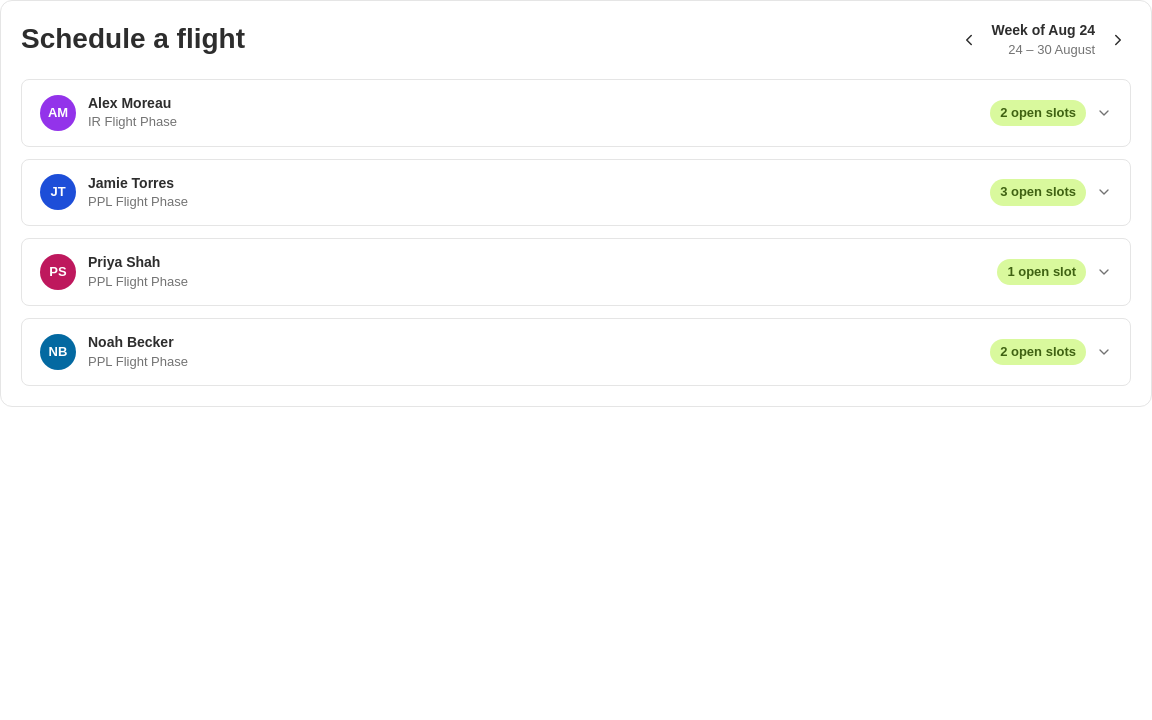
Test: InstructorSchedulePanel › closes the previously open student panel when another one is opened
Step 1. Click the button "AM Alex Moreau IR Flight Phase 2 open slots" → coordinates (58, 113), box [22, 80, 1130, 146]
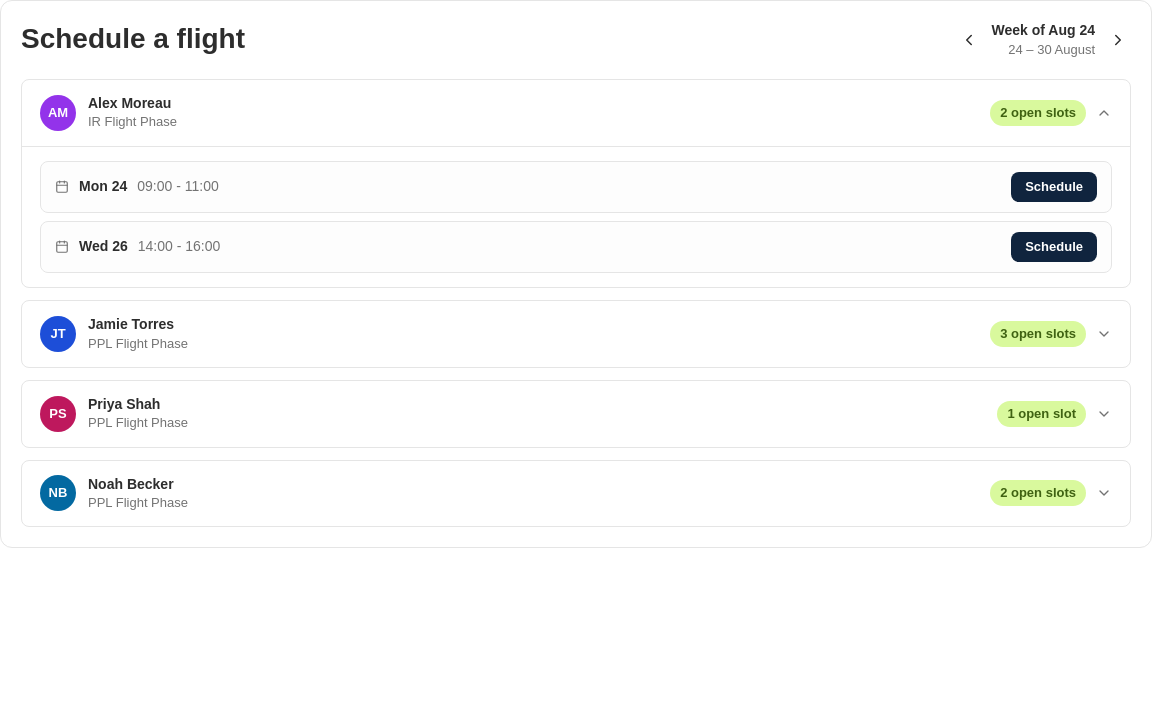
Expected: the button "AM Alex Moreau IR Flight Phase 2 open slots" is expanded, [22, 80, 1130, 146]
Step 2. Click the button "JT Jamie Torres PPL Flight Phase 3 open slots" → coordinates (58, 334), box [22, 301, 1130, 367]
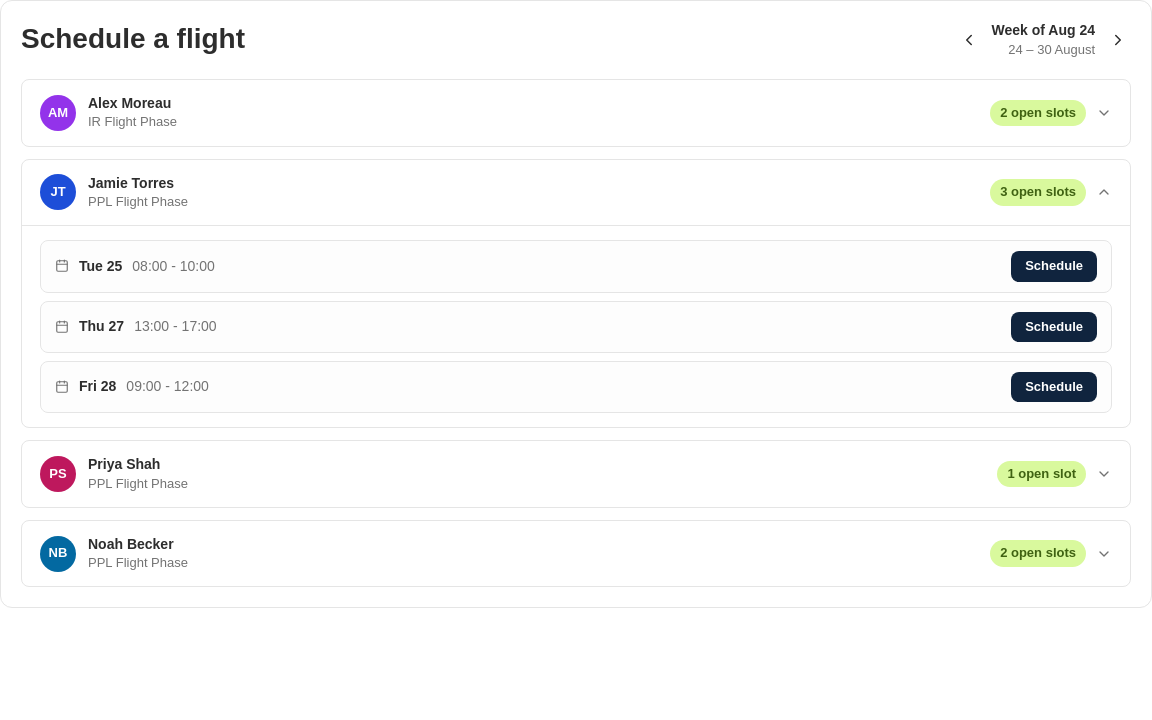
Expected: the button "JT Jamie Torres PPL Flight Phase 3 open slots" is expanded, [22, 160, 1130, 225]
Expected: the button "AM Alex Moreau IR Flight Phase 2 open slots" is collapsed, [22, 80, 1130, 146]
